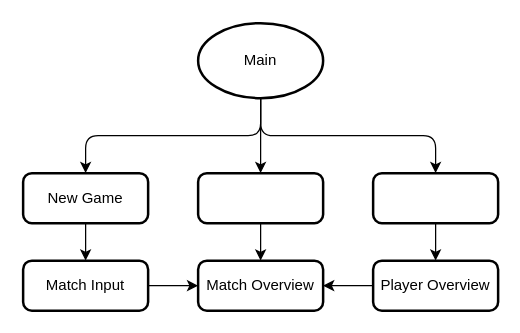
This 520x333 diagram has some shape labels left out. Here are the shapes that lost their labels. From the top down, the centre of each, then its label:
At point (260, 197): "Matches Overview".
At point (435, 197): "Players Overview".
